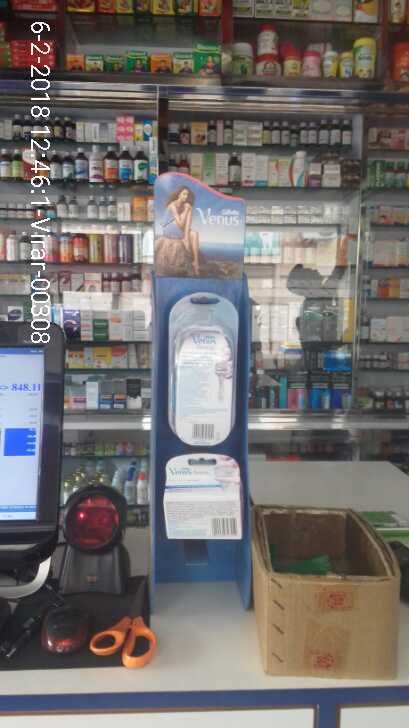reject: (143, 191, 259, 382)
